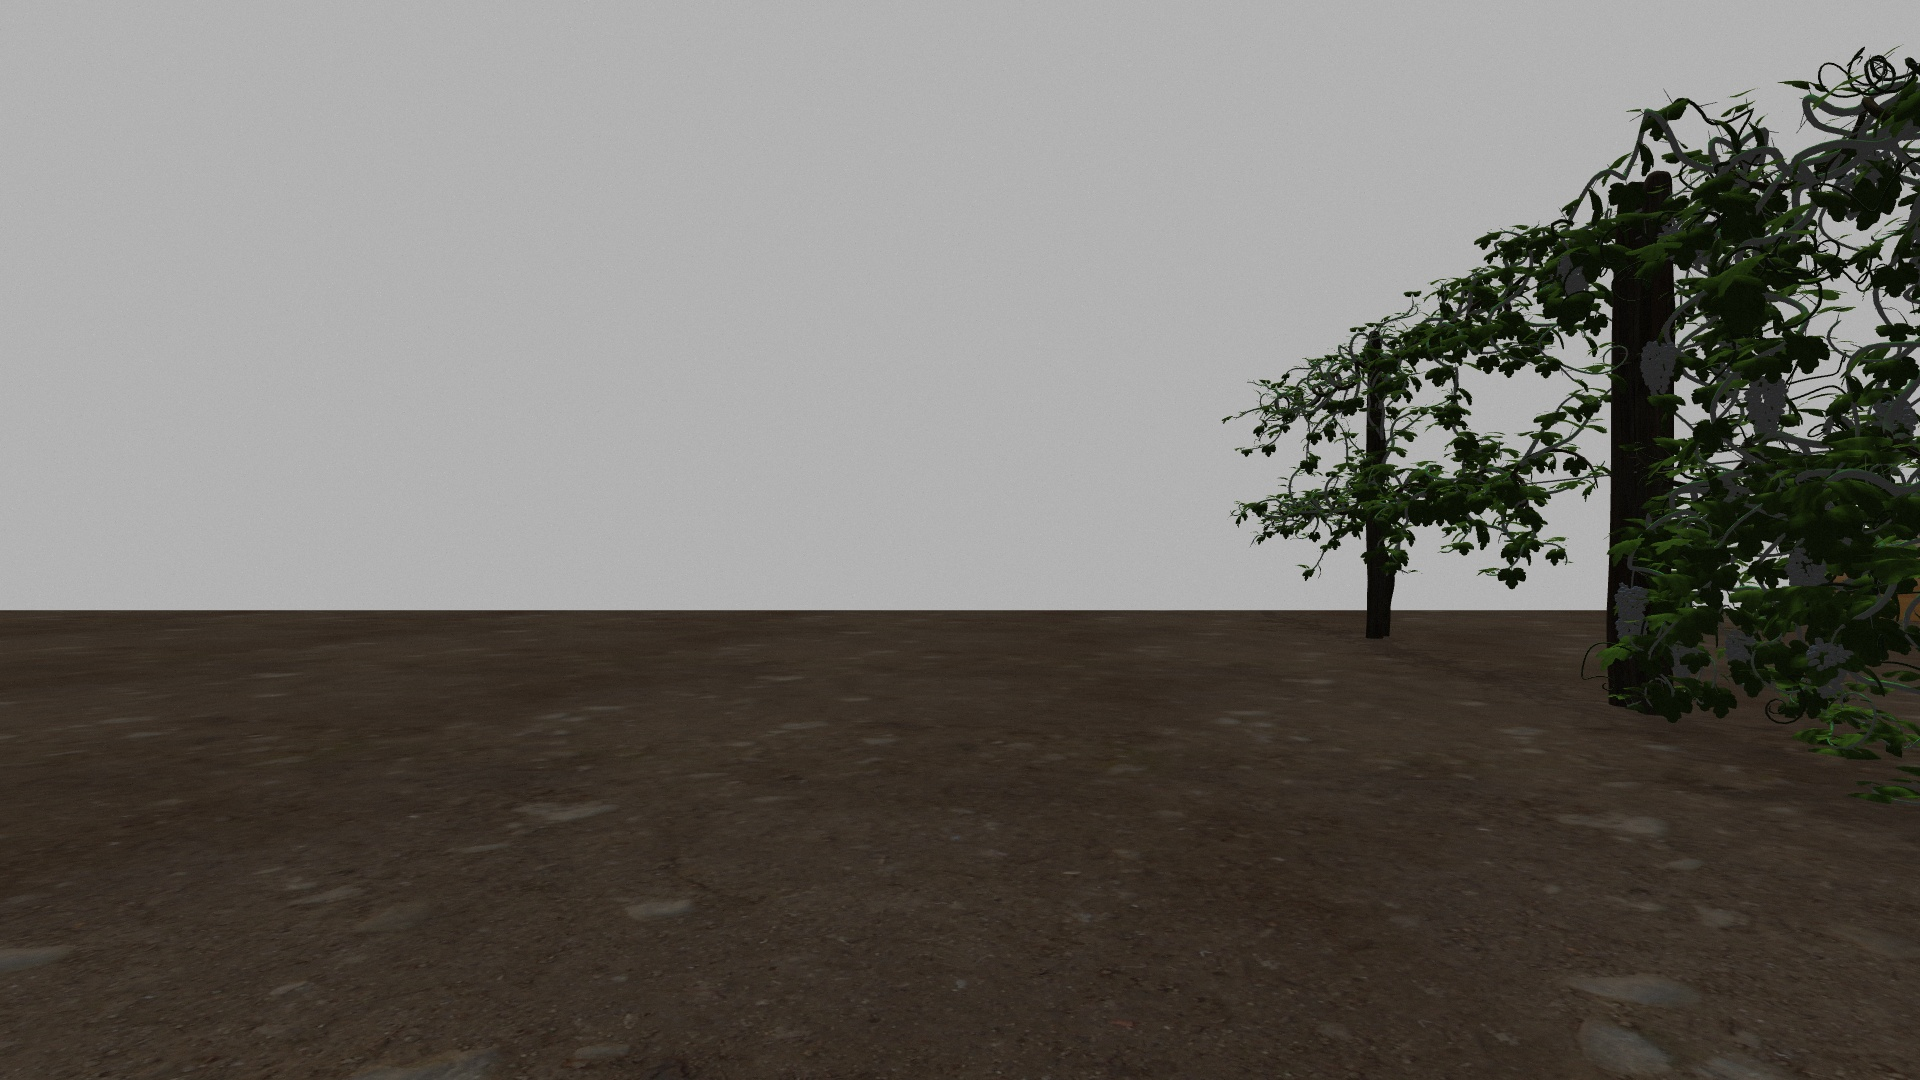grape: (1743, 375, 1789, 440), (1640, 339, 1679, 396), (1613, 584, 1647, 641), (1784, 546, 1829, 588), (1808, 636, 1853, 673), (1725, 629, 1755, 666)
